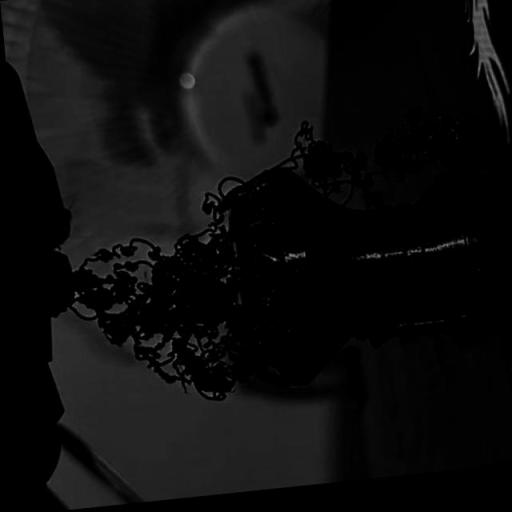spaghetti_and_stringing: (74, 240, 180, 330), (371, 114, 478, 194), (133, 312, 206, 374), (295, 142, 368, 198), (180, 340, 243, 398), (175, 232, 218, 286), (195, 183, 239, 222)
